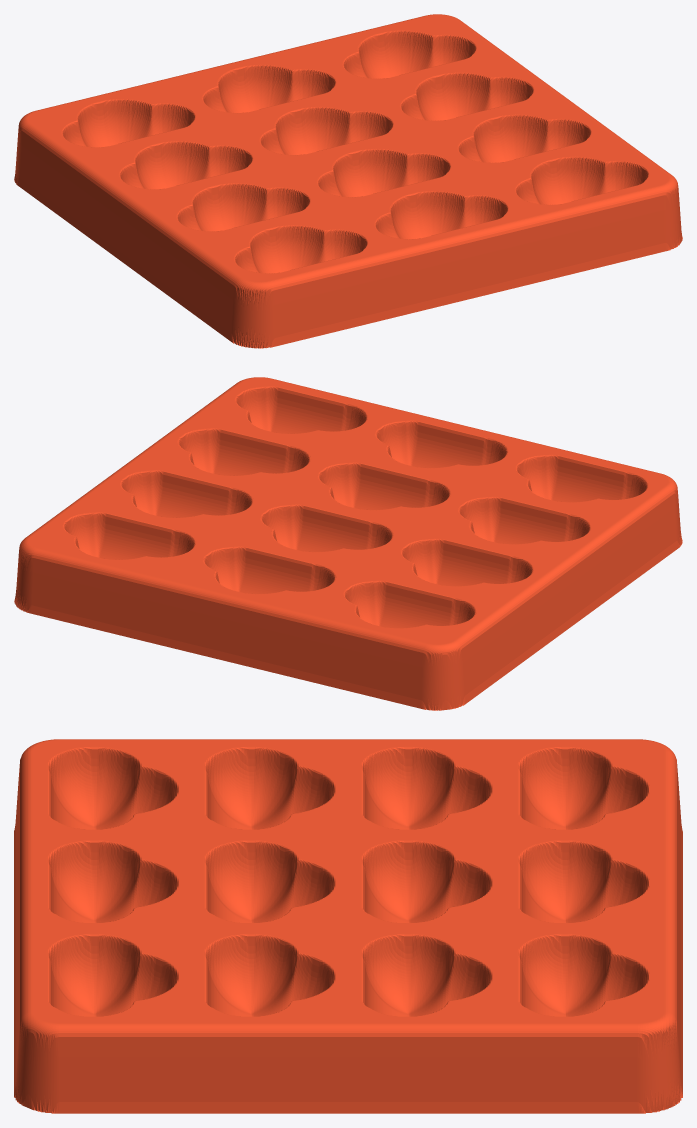
The model's file is mold.glb.
3 renders of one model, top to bottom at view 1: azimuth 30°, elevation 25°; view 2: azimuth 150°, elevation 25°; view 3: azimuth 270°, elevation 25°, orthographic. The views are drawn at different scales.
Visible parts, largest first — view 1: geometry_0; view 2: geometry_0; view 3: geometry_0.
Part boxes in pixels (x1,y1,x2,y2): geometry_0: (14,14,682,348); geometry_0: (14,377,682,710); geometry_0: (14,739,682,1113).
Size of the model in its own units: 0.141 by 0.0182 by 0.1336.
